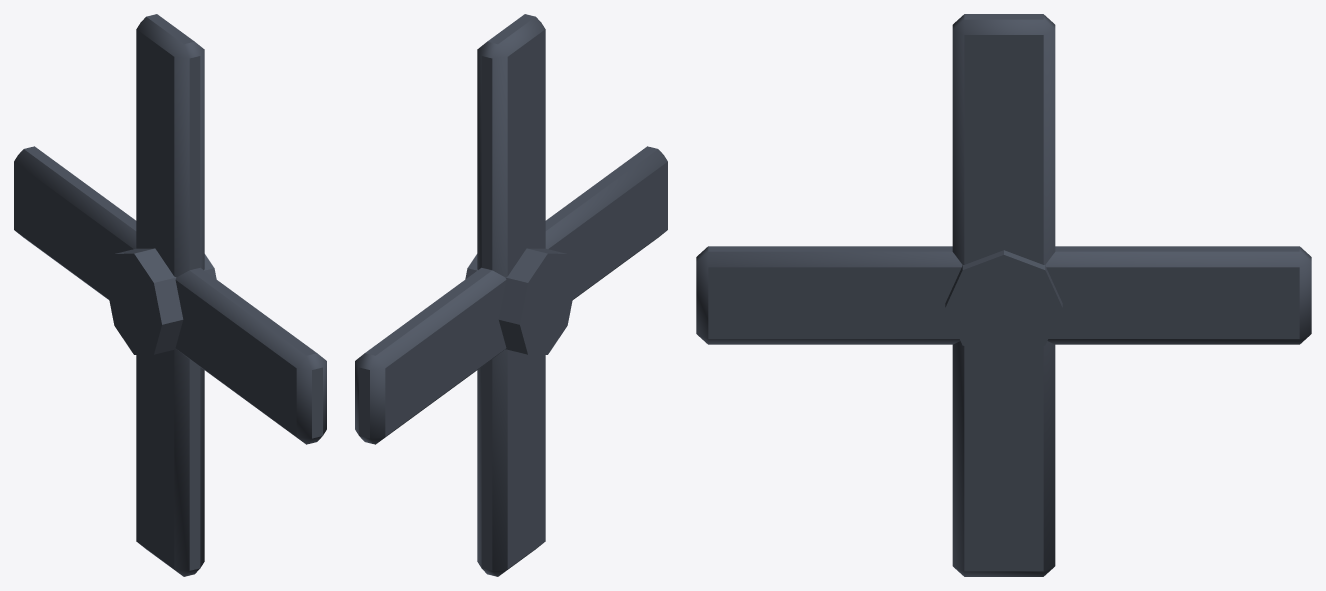
Rendered from heli_tail.fbx.
3 views of the same model, side by side, from view 1: azimuth 30°, elevation 25°; view 2: azimuth 150°, elevation 25°; view 3: azimuth 270°, elevation 25° (orthographic). The views are drawn at different scales.
Visible parts, largest first — view 1: heli_tail; view 2: heli_tail; view 3: heli_tail.
Boxes of the visible parts, bbox=[...] form: heli_tail: bbox=[14, 14, 326, 576]; heli_tail: bbox=[355, 14, 667, 576]; heli_tail: bbox=[696, 14, 1311, 576].
Size of the model in its own units: 0.05 by 0.42 by 0.42.
